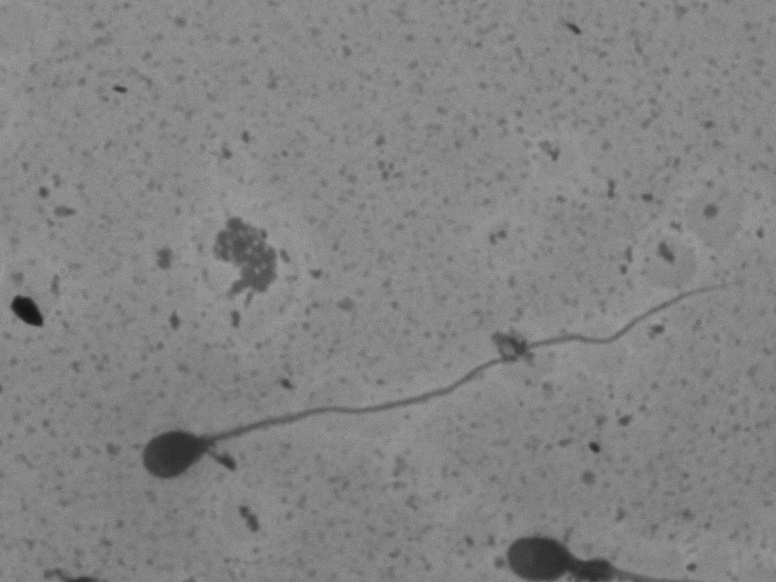Normal: (130, 254, 755, 502)
